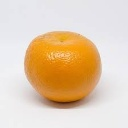orange: (21, 28, 103, 105)
